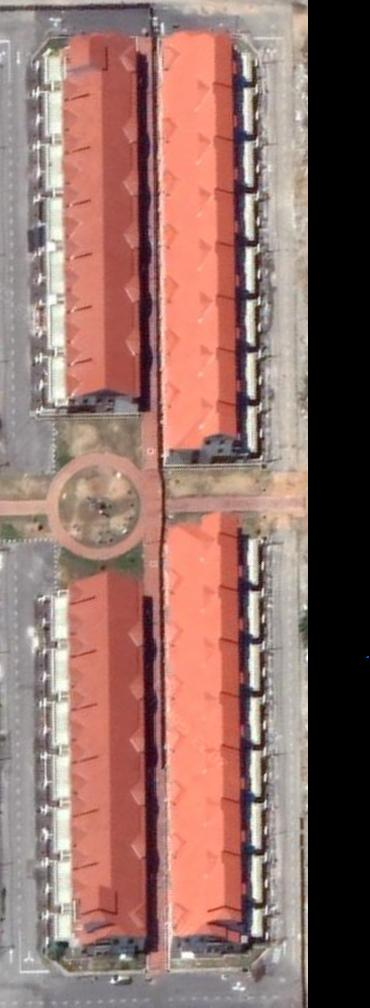building: (162, 848, 257, 951), (65, 865, 154, 954), (151, 129, 245, 207), (161, 505, 245, 586), (152, 184, 242, 259), (57, 26, 141, 105), (155, 75, 242, 149), (160, 576, 249, 648), (161, 689, 251, 759), (153, 236, 245, 304), (151, 26, 242, 94), (159, 744, 255, 806), (162, 636, 251, 702), (162, 795, 253, 859), (154, 289, 247, 350), (156, 394, 243, 458), (64, 812, 152, 874), (155, 342, 248, 400), (63, 706, 150, 768), (59, 255, 144, 318), (60, 310, 146, 372), (65, 761, 153, 821), (59, 204, 143, 266), (66, 652, 148, 715), (57, 151, 142, 211), (58, 102, 142, 159), (65, 604, 146, 662), (66, 565, 146, 609), (61, 364, 145, 405)
